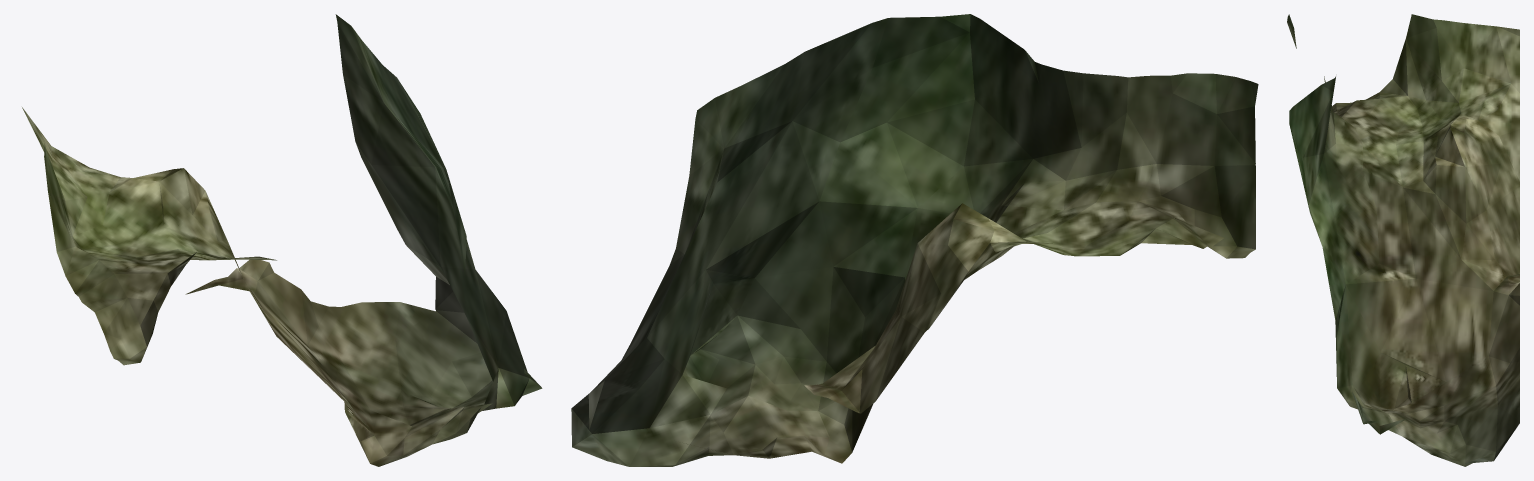
The picture shows the model from 3 angles, left to right: view 1: azimuth 30°, elevation 25°; view 2: azimuth 150°, elevation 25°; view 3: azimuth 270°, elevation 25°; orthographic projection. The views are drawn at different scales.
Size of the model in its own units: 2.33 by 1.7 by 1.26.
Materials: 2 (2 with a texture image).
